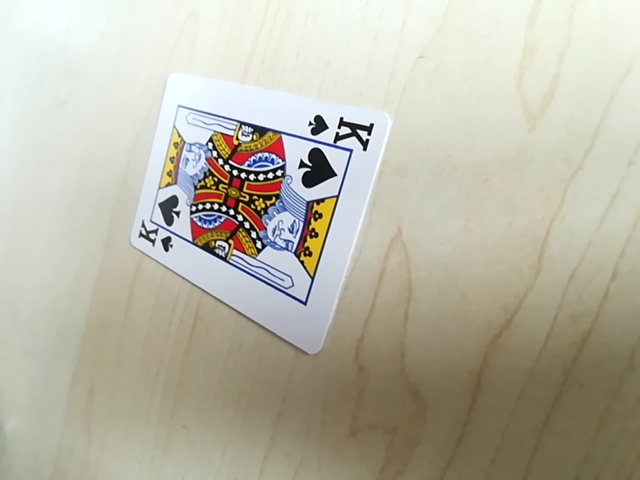ht k: (303, 110, 378, 146), (133, 217, 175, 254)
